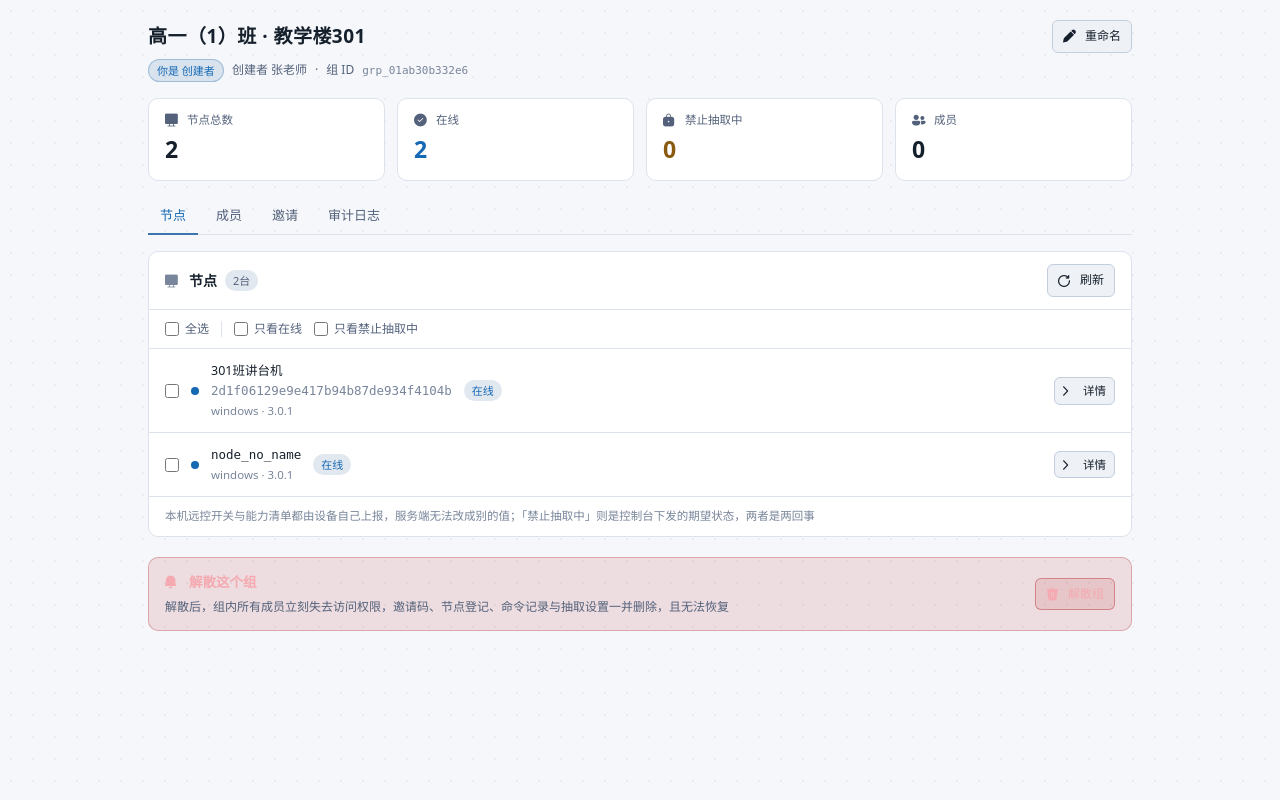
Test: GroupDetailView 节点列表 › 展开详情里同时给出设备名与 node_id，缺名时写明去哪里设置
What coordinates should you click on to do the following:
click the button with test id "node-expand-2d1f06129e9e417b94b87de934f4104b"
I would click on:
 (1084, 391)
Its box is x1=1054 y1=377 x2=1115 y2=405.
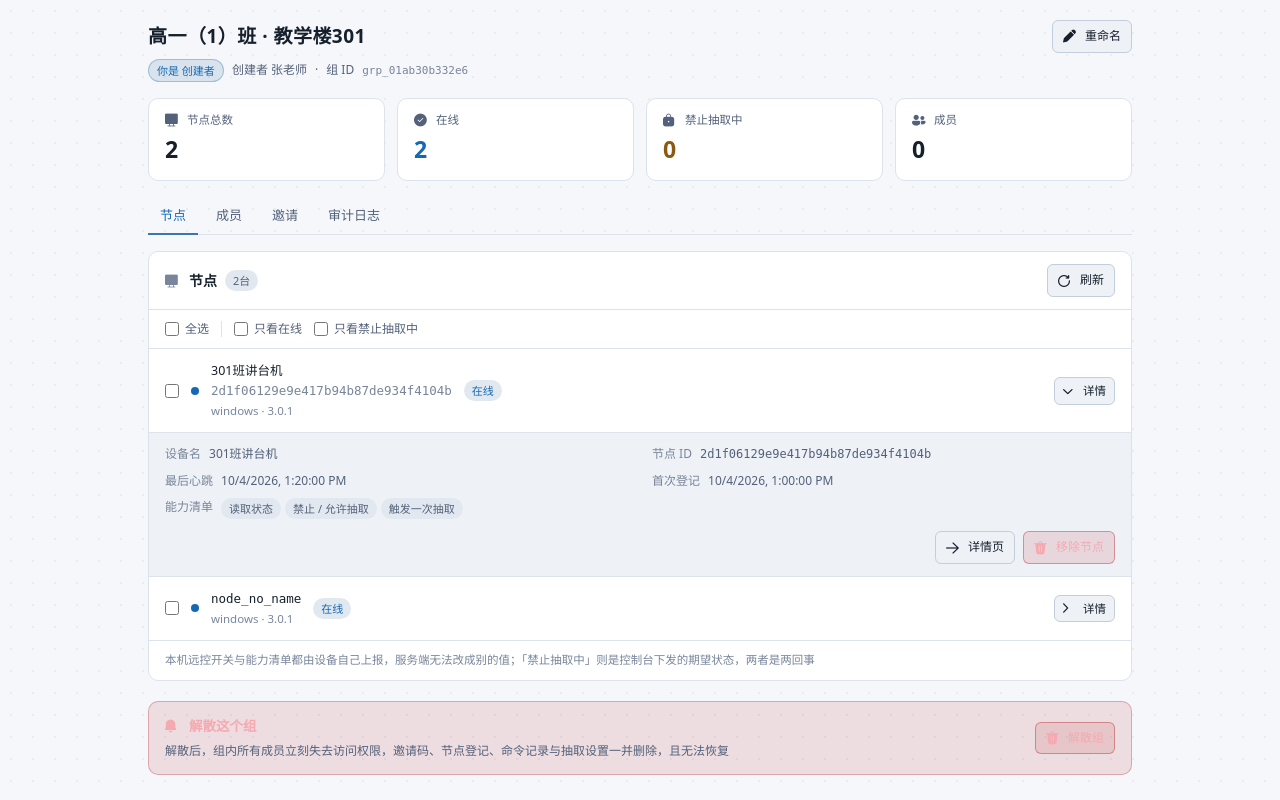
Check: the element with test id "node-detail-2d1f06129e9e417b94b87de934f4104b" shows "设备名", box x1=165 y1=445 x2=201 y2=462
Check: the element with test id "node-detail-2d1f06129e9e417b94b87de934f4104b" shows "301班讲台机", box x1=209 y1=445 x2=278 y2=462
Check: the element with test id "node-detail-2d1f06129e9e417b94b87de934f4104b" shows "2d1f06129e9e417b94b87de934f4104b", box x1=700 y1=447 x2=931 y2=461
What coordinates should you click on to do the following:
click the button with test id "node-expand-node_no_name"
I would click on:
 (1084, 608)
Its box is x1=1054 y1=594 x2=1115 y2=622.
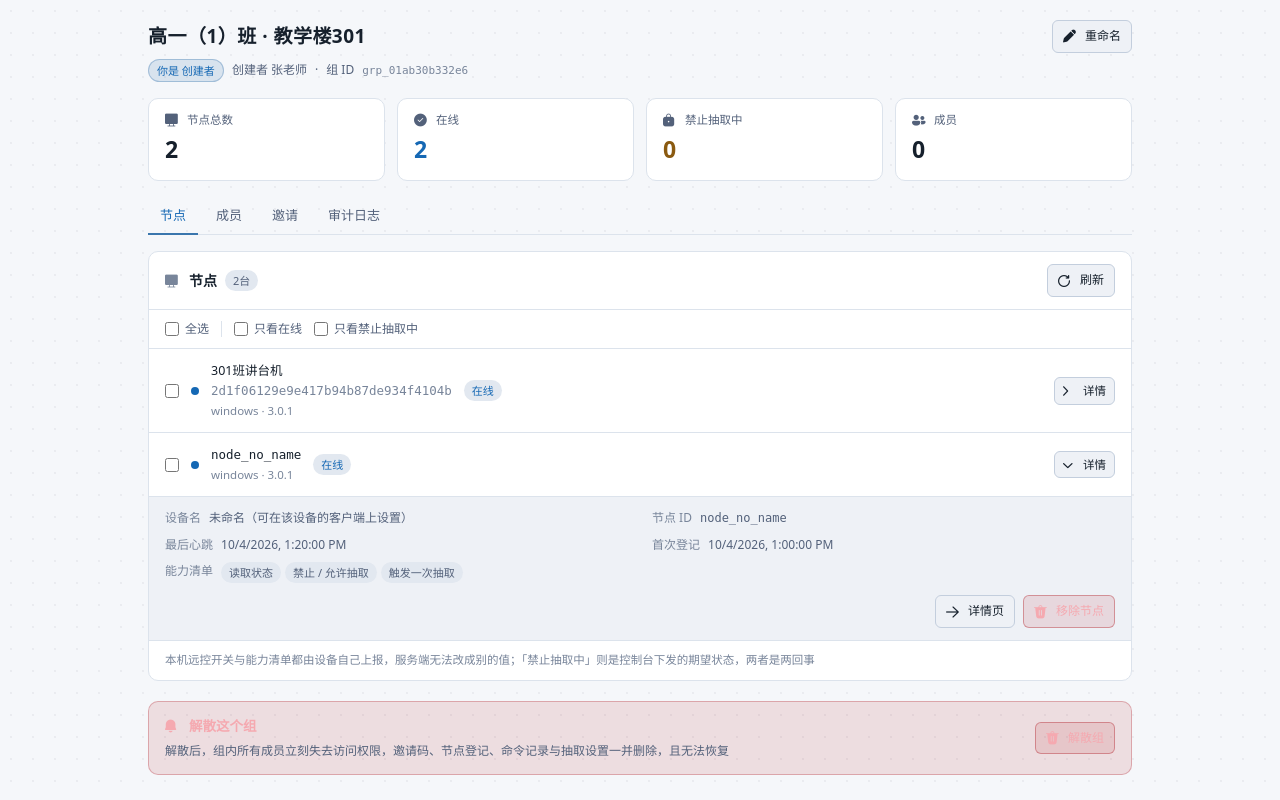
Check: the element with test id "node-detail-node_no_name" shows "未命名", box x1=209 y1=509 x2=413 y2=526
Check: the element with test id "node-detail-node_no_name" shows "node_no_name", box x1=700 y1=511 x2=787 y2=525
